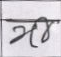i_matra: (38, 17, 49, 42)
